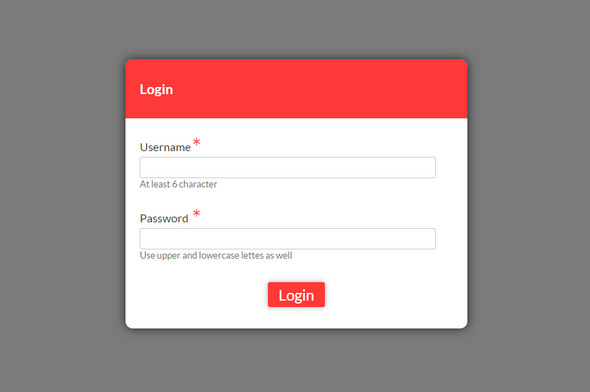_form_: (73, 1, 489, 392)
button: (267, 280, 328, 308)
field: (137, 225, 436, 251), (138, 156, 437, 180)
field_with_label: (135, 212, 437, 253), (136, 143, 438, 182)
